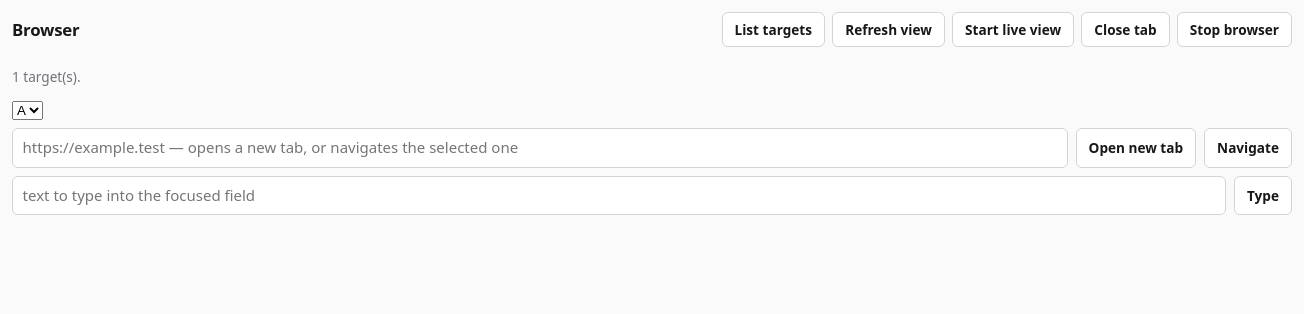
BrowserPane › closes the selected tab, re-lists, and follows the survivor
Check: the text "1 target(s)." is shown, box [12,67,81,86]
Click the button "Close tab" at (1125, 30), box [1081,12,1170,47]
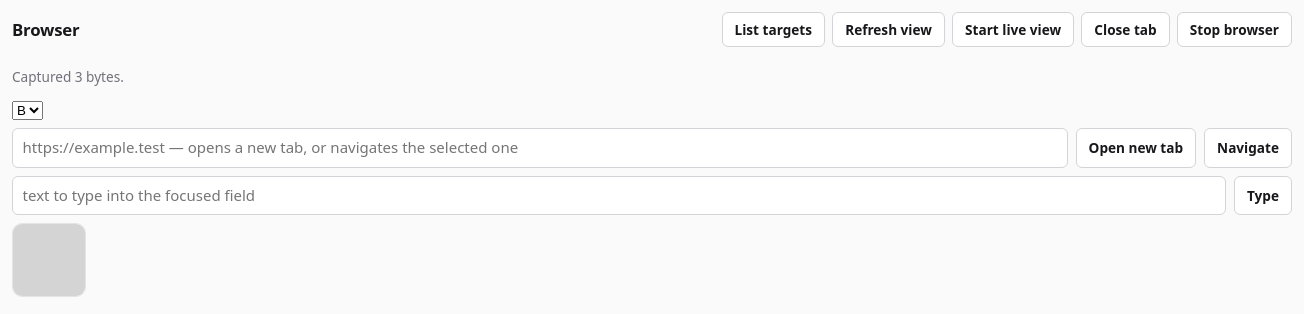
Check: the dropdown named "Target" shows "B", box [12,101,43,120]
